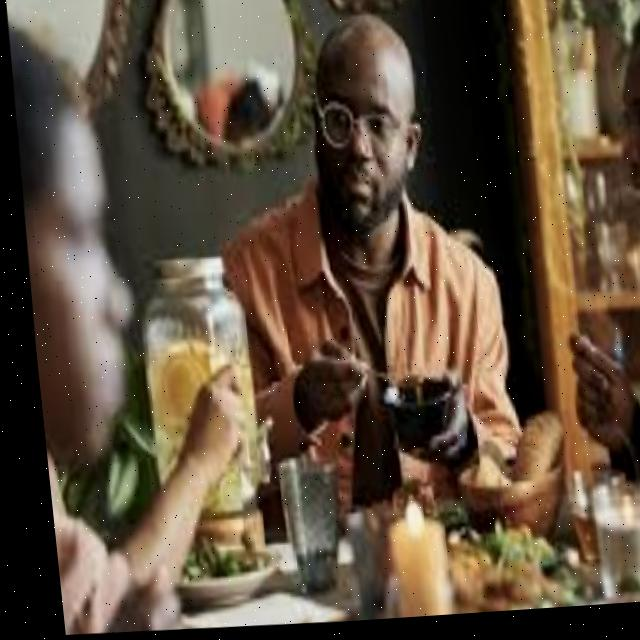eating-person: (170, 0, 561, 578), (508, 0, 640, 613)
